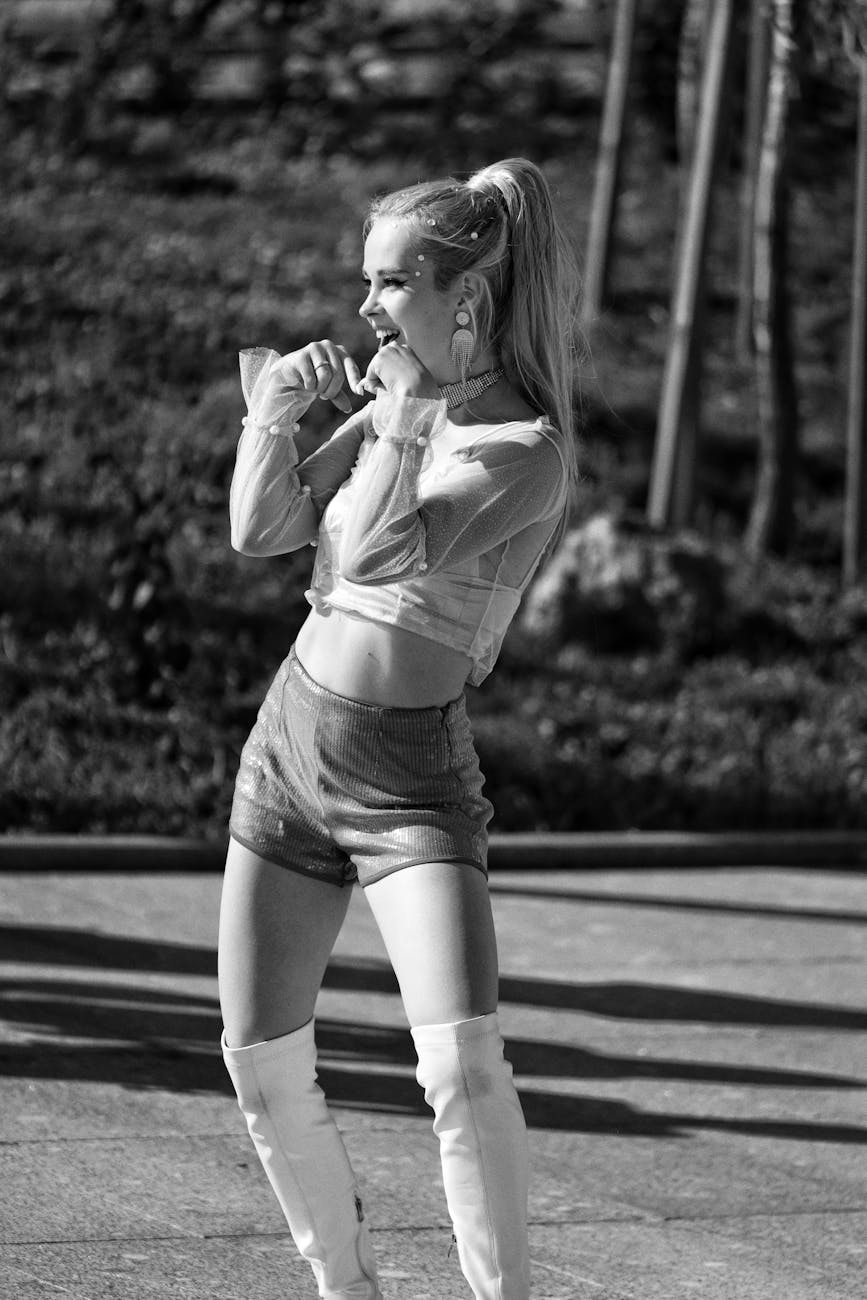crop_top: (285, 419, 582, 656)
shorts: (222, 637, 511, 887)
